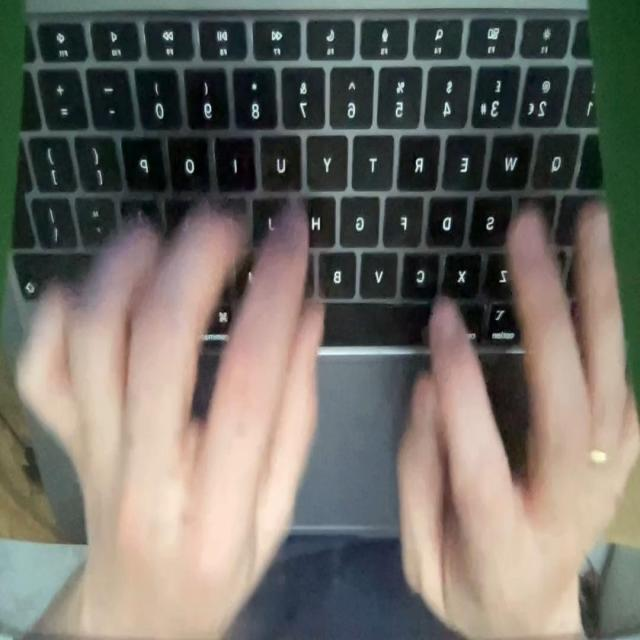keyboard-with-hands: (2, 0, 629, 541)
